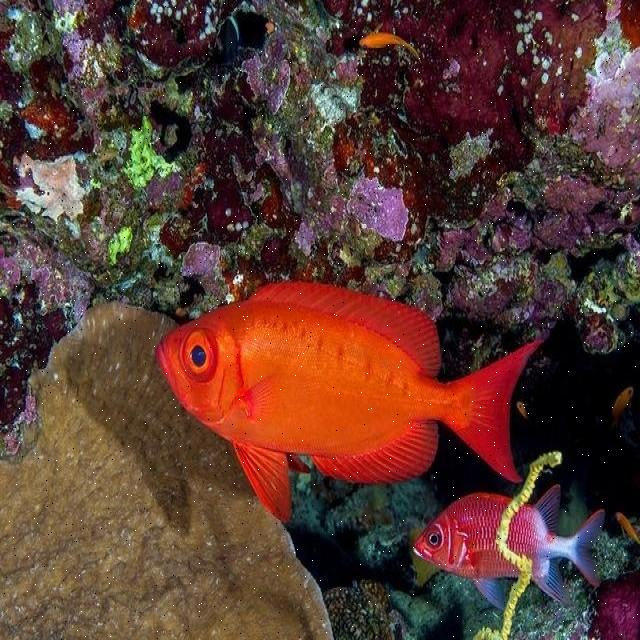fish: (156, 281, 540, 522), (414, 484, 605, 613), (361, 21, 422, 64)
reefs: (0, 303, 335, 639), (472, 449, 561, 639)
